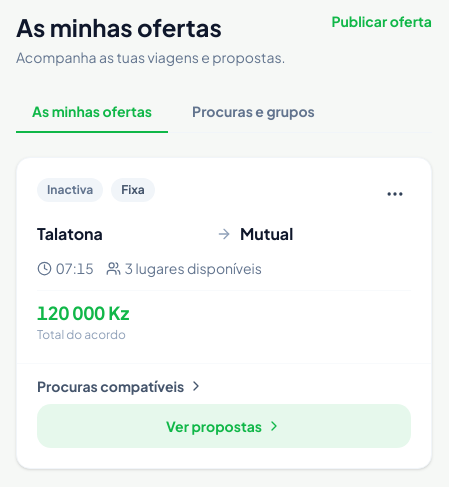
it: DriverDashboard — marketplace › mostra Reactivar no kebab quando inactiva por motorista
Expected: the text "Inactiva" is shown, x1=37 y1=178 x2=103 y2=202
Click the button named "Mais acções" at [395, 194], box x1=379 y1=178 x2=411 y2=210
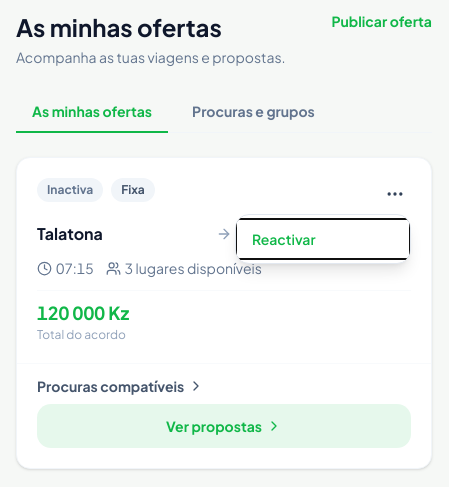
Expected: the menu item "Reactivar" is shown, x1=236 y1=219 x2=410 y2=259
